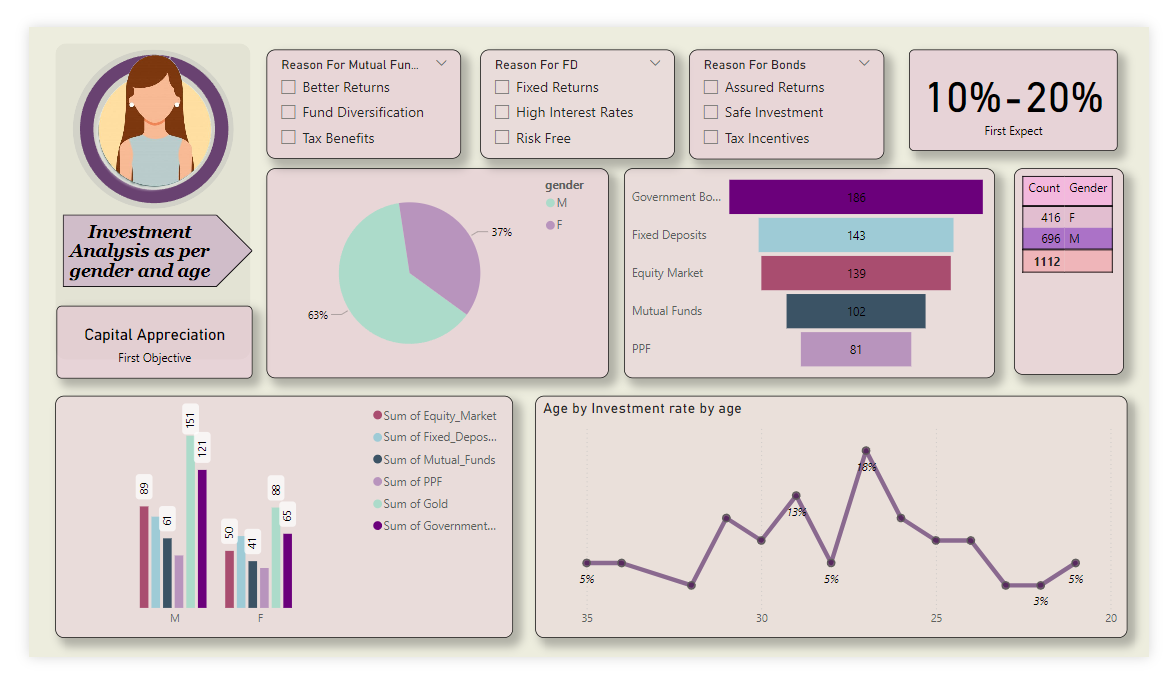

The dashboard page shown, as its layout file describes it:
{"tool":"powerbi","page":{"name":"Page 1","canvas":[1280,720],"ordinal":0},"visuals":[{"type":"pieChart","fields":{"Category":["Cleaned_data.gender"],"Y":["Sum(Cleaned_data.age)"]},"box":[271.4,161.4,391.4,240],"z":0},{"type":"lineChart","fields":{"Category":["Cleaned_data.age"],"Y":["Sum(Cleaned_data.Mutual_Funds)"]},"box":[578.3,421.7,676.7,276.7],"z":1000},{"type":"lineClusteredColumnComboChart","fields":{"Category":["Cleaned_data.gender"],"Y":["Sum(Cleaned_data.Equity_Market)","Sum(Cleaned_data.Fixed_Deposits)","Sum(Cleaned_data.Mutual_Funds)","Sum(Cleaned_data.PPF)","Sum(Cleaned_data.Gold)","Sum(Cleaned_data.Government_Bonds)"]},"box":[30,421.7,523.3,276.7],"z":2000},{"type":"slicer","fields":{"Values":["Cleaned_data.Reason_Mutual"]},"box":[271.2,25,222.5,125],"z":3000},{"type":"slicer","fields":{"Values":["Cleaned_data.Reason_FD"]},"box":[516.2,25,222.5,125],"z":4000},{"type":"slicer","fields":{"Values":["Cleaned_data.Reason_Bonds"]},"box":[754.3,25.7,222.9,125.7],"z":5000},{"type":"card","fields":{"Values":["Min(Cleaned_data.Expect)"]},"box":[1005.7,25.7,238.6,115.7],"z":6000},{"type":"shape","box":[30,18.3,223.3,361.7],"z":7000},{"type":"shape","box":[50,26,184,182],"z":8000},{"type":"donutChart","fields":{"Y":["CountNonNull(Cleaned_data.gender)","Sum(Cleaned_data.age)"]},"box":[14,6,258,222],"z":9000},{"type":"image","box":[71.3,0,144.7,214],"z":10000},{"type":"card","fields":{"Values":["Min(Cleaned_data.Objective)"]},"box":[31.4,318.6,224.3,82.9],"z":11000},{"type":"funnel","fields":{"Y":["Sum(Cleaned_data.Government_Bonds)","Sum(Cleaned_data.Fixed_Deposits)","Sum(Cleaned_data.Equity_Market)","Sum(Cleaned_data.Mutual_Funds)","Sum(Cleaned_data.PPF)"]},"box":[680,161.4,424.3,240],"z":12000},{"type":"tableEx","fields":{"Values":["Sum(Cleaned_data.age)","Cleaned_data.gender"]},"box":[1125.7,161.4,125.7,235.7],"z":13000},{"type":"shape","box":[38.6,214.3,217.1,82.9],"z":14000}]}

Visuals, with their boxes in screenshot pixels (x1, y1, x2, y2):
pieChart - Cleaned_data.gender x Sum(Cleaned_data.age): box(266, 167, 605, 375)
lineChart - Cleaned_data.age x Sum(Cleaned_data.Mutual_Funds): box(532, 393, 1119, 633)
lineClusteredColumnComboChart - Cleaned_data.gender x Sum(Cleaned_data.Equity_Market): box(56, 393, 510, 633)
slicer - Cleaned_data.Reason_Mutual: box(266, 49, 459, 157)
slicer - Cleaned_data.Reason_FD: box(478, 49, 671, 157)
slicer - Cleaned_data.Reason_Bonds: box(685, 50, 878, 159)
card - Min(Cleaned_data.Expect): box(903, 50, 1109, 150)
shape: box(56, 43, 250, 357)
shape: box(74, 50, 233, 208)
donutChart - CountNonNull(Cleaned_data.gender) x Sum(Cleaned_data.age): box(43, 33, 266, 225)
image: box(92, 27, 218, 213)
card - Min(Cleaned_data.Objective): box(58, 304, 252, 376)
funnel - Sum(Cleaned_data.Government_Bonds) x Sum(Cleaned_data.Fixed_Deposits): box(620, 167, 988, 375)
tableEx - Sum(Cleaned_data.age) x Cleaned_data.gender: box(1007, 167, 1116, 372)
shape: box(64, 213, 252, 285)
